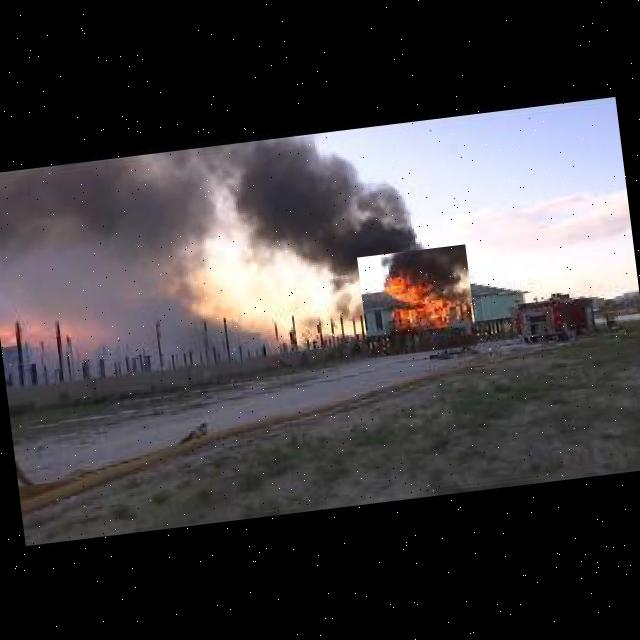fire: (357, 244, 478, 358)
